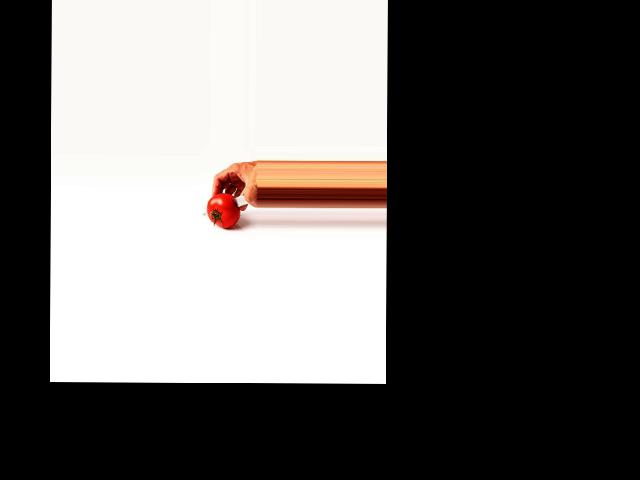tomato: (206, 192, 239, 228)
